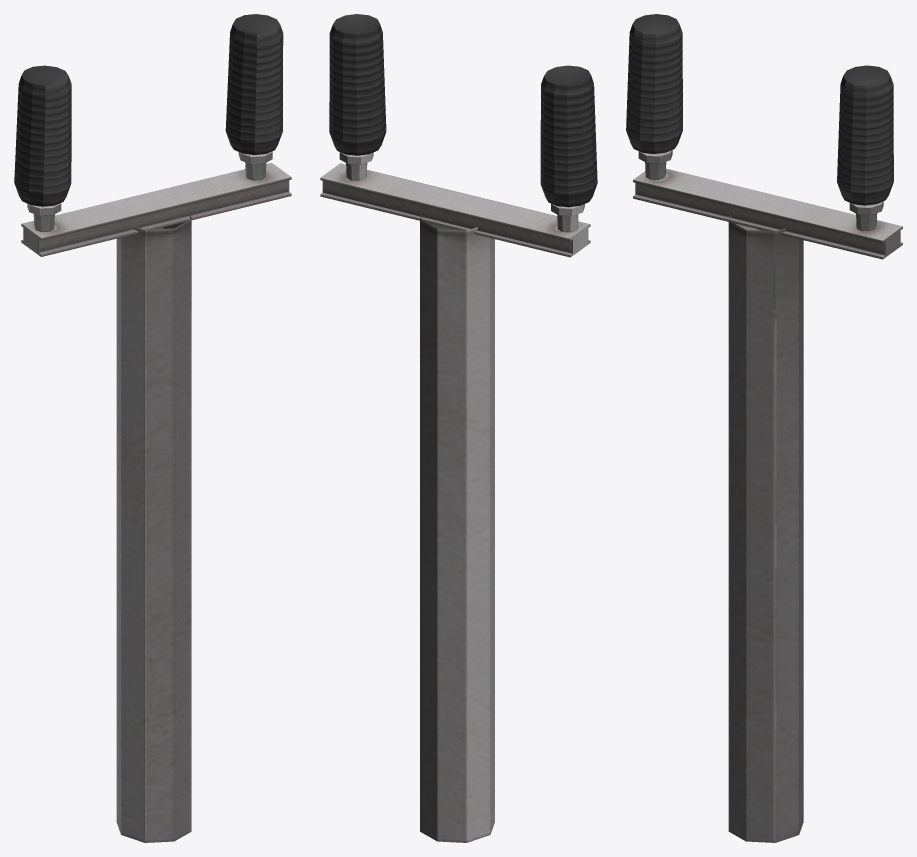
Rendered from substation_ht_1005_06.obj.
3 renders of one model, left to right at view 1: azimuth 30°, elevation 25°; view 2: azimuth 150°, elevation 25°; view 3: azimuth 330°, elevation 25°, orthographic.
Visible parts, largest first — view 1: substation_ht_1005_06; view 2: substation_ht_1005_06; view 3: substation_ht_1005_06.
Part boxes in pixels (x1,y1,x2,y2): substation_ht_1005_06: (14,14,291,842); substation_ht_1005_06: (320,14,597,842); substation_ht_1005_06: (626,14,902,842).
Size of the model in its own units: 12.63 by 35.66 by 3.31.
Materials: 2 (2 with a texture image).
